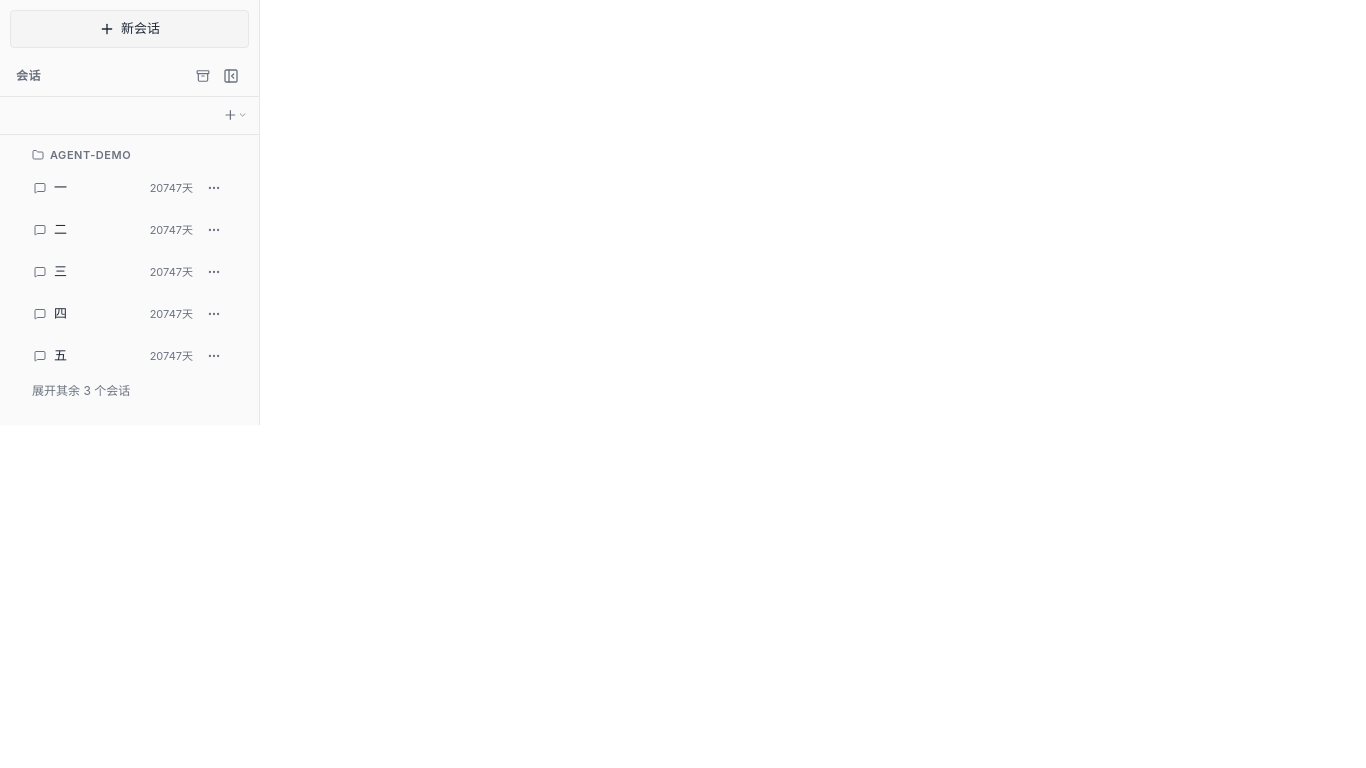
Sidebar 会话管理 › 点击 + 弹出 menu，含 'Add workspace...' 项；点 Add workspace 触发 WorkspacePickerModal
点击 + 弹出 menu
Click the button with test id "workspace-add-button".
click(235, 114)  # box [223,102,247,126]
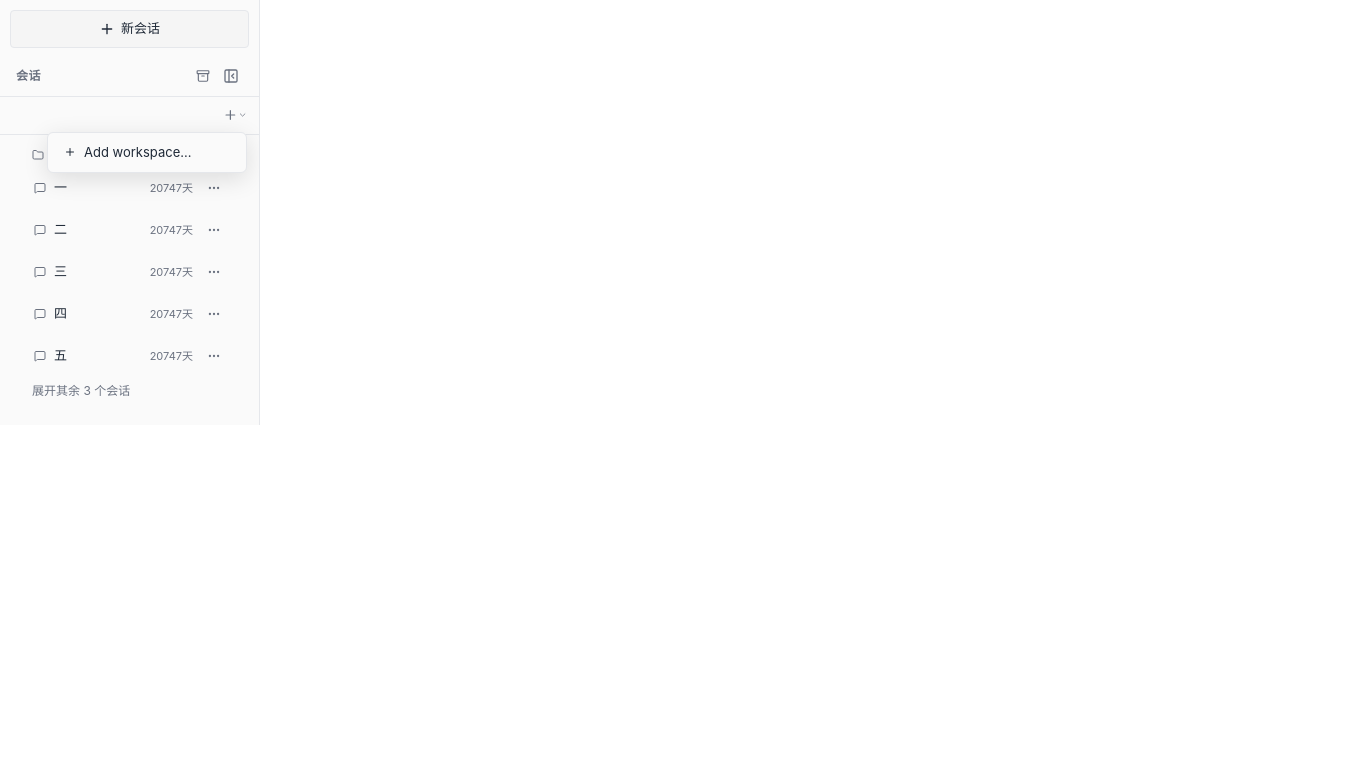
Expected: the menu with test id "workspace-add-menu" is shown, [47,132,247,173]
Expected: the menu item with test id "workspace-add-new" is shown
点 "Add workspace..." 关闭 menu + 弹 picker modal
Click the menu item with test id "workspace-add-new".
click(147, 152)  # box [52,136,242,168]
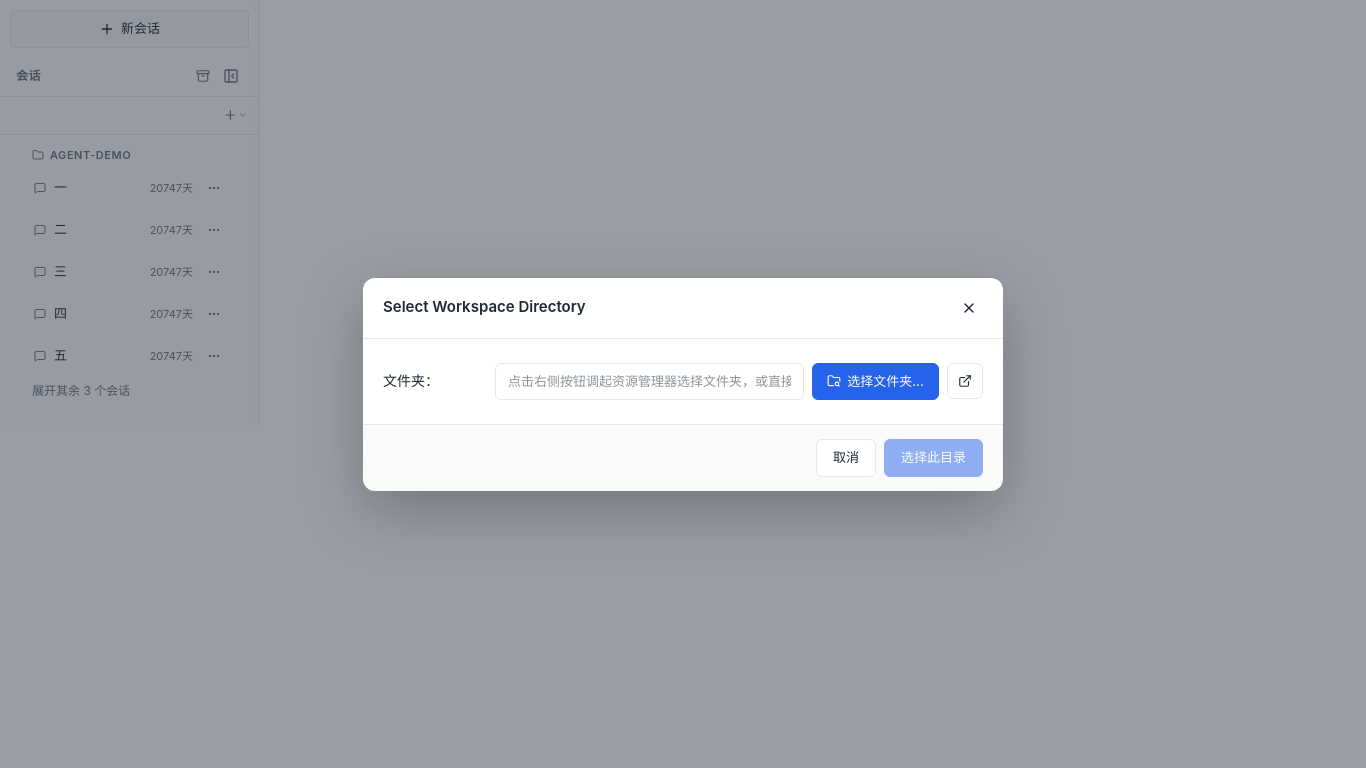
Expected: the menu with test id "workspace-add-menu" is gone
Expected: the dialog named "选择工作区目录" is shown
关闭 picker modal → dialog 消失
Press Escape
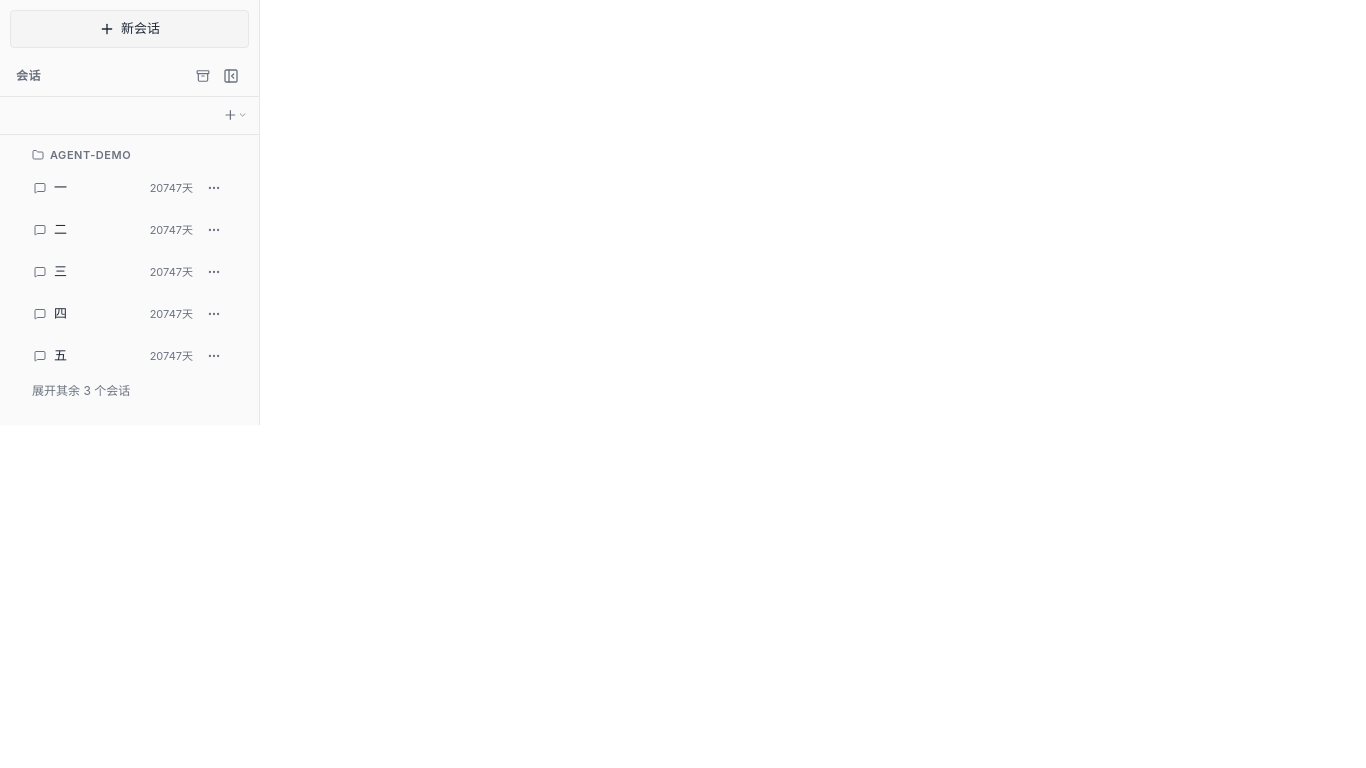
Expected: the dialog "选择工作区目录" is gone
